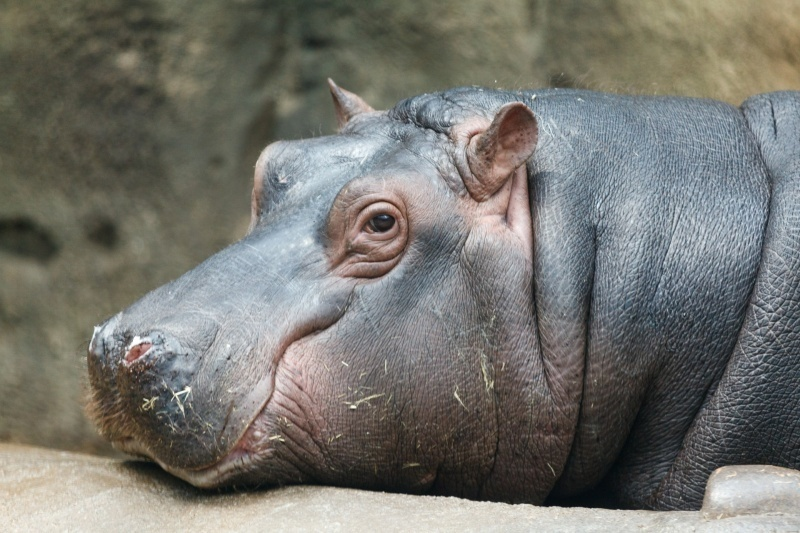hipopotamo: (72, 66, 800, 521)
